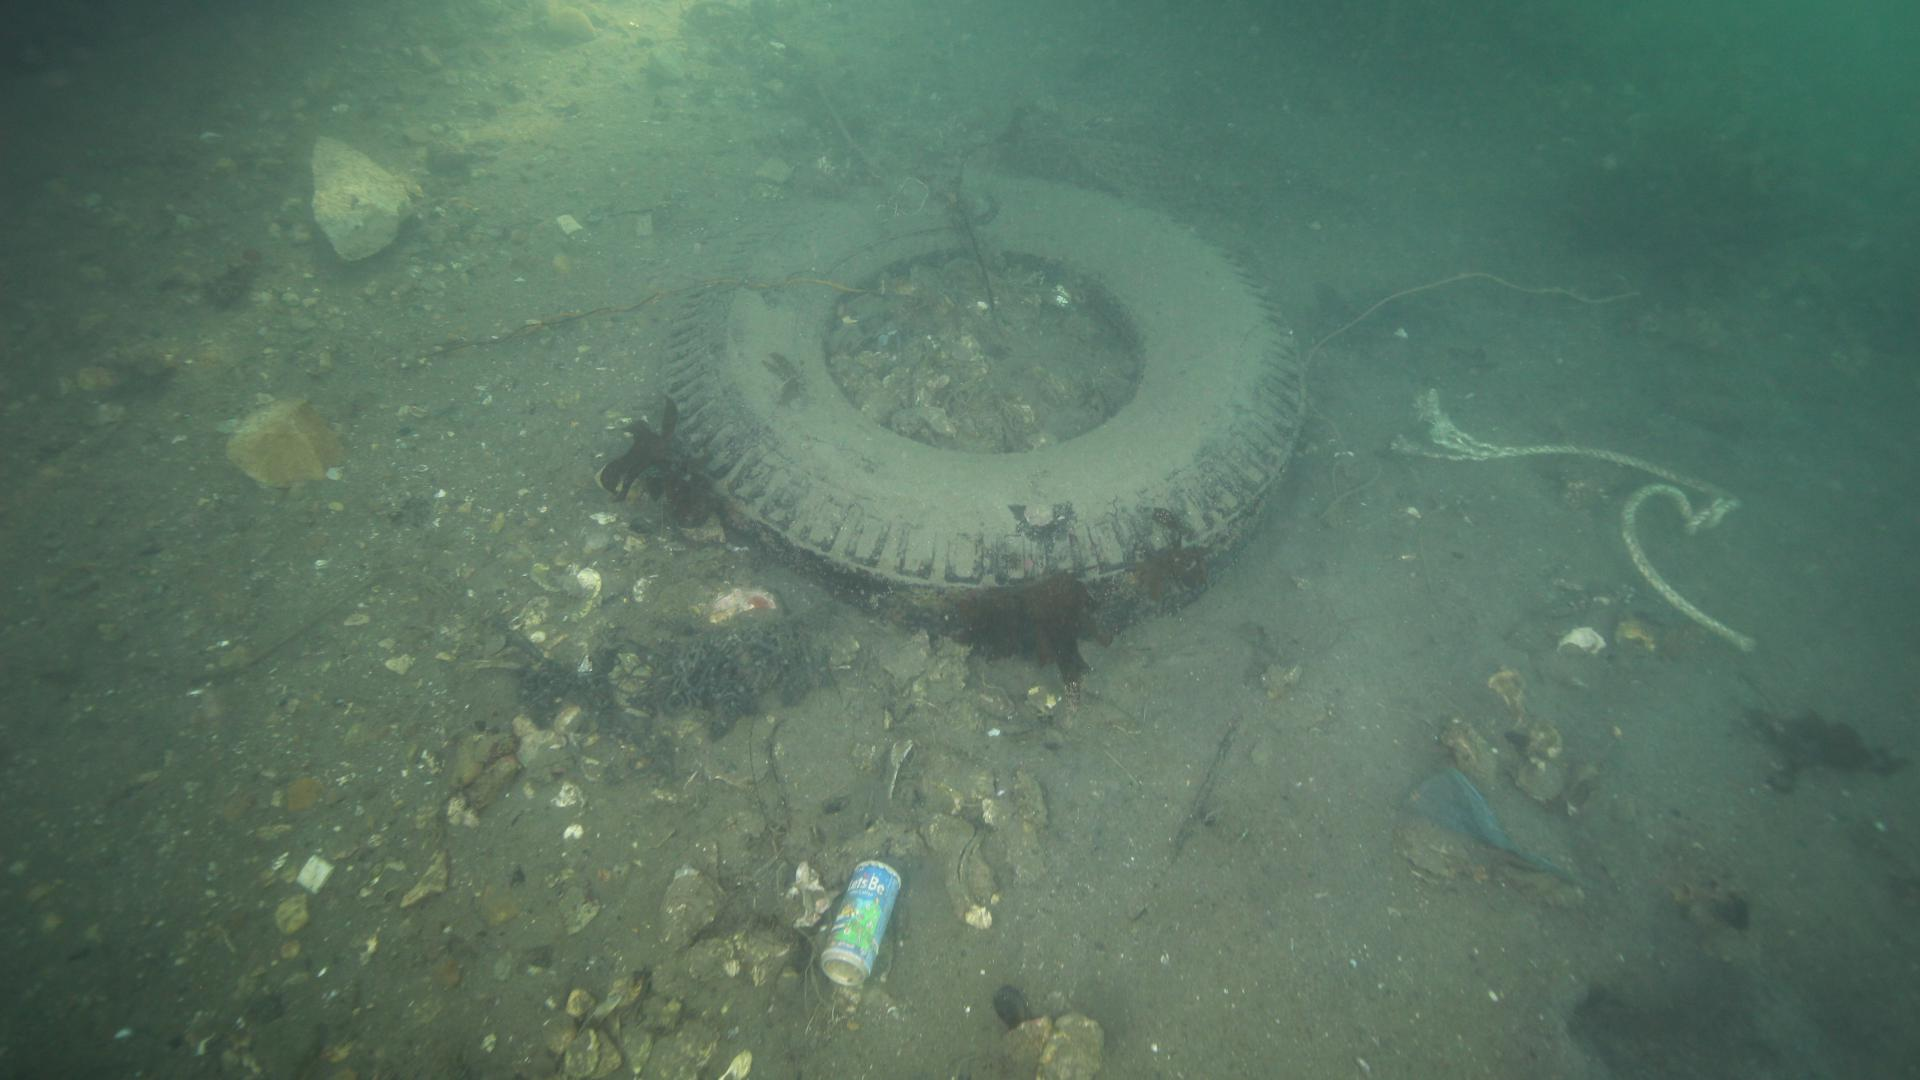rope: (1379, 348, 1775, 679)
tire: (651, 164, 1313, 645)
